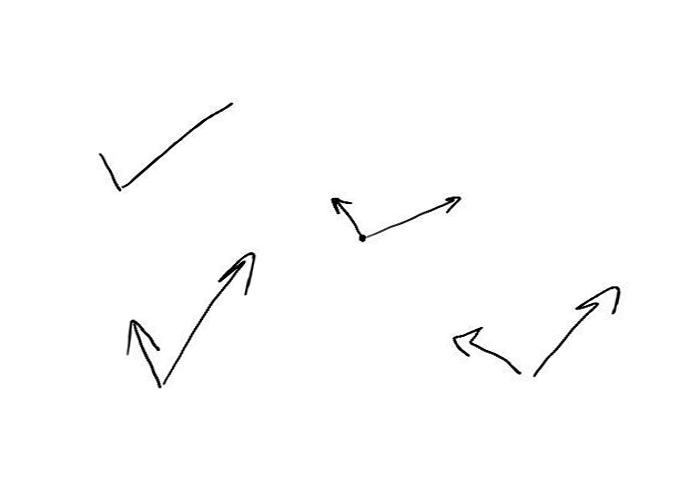arrow: (162, 251, 257, 381), (534, 284, 622, 374), (372, 195, 461, 238), (450, 326, 522, 376), (124, 317, 162, 389), (329, 196, 361, 237)
arrownohead: (123, 101, 232, 186), (99, 151, 120, 190)
